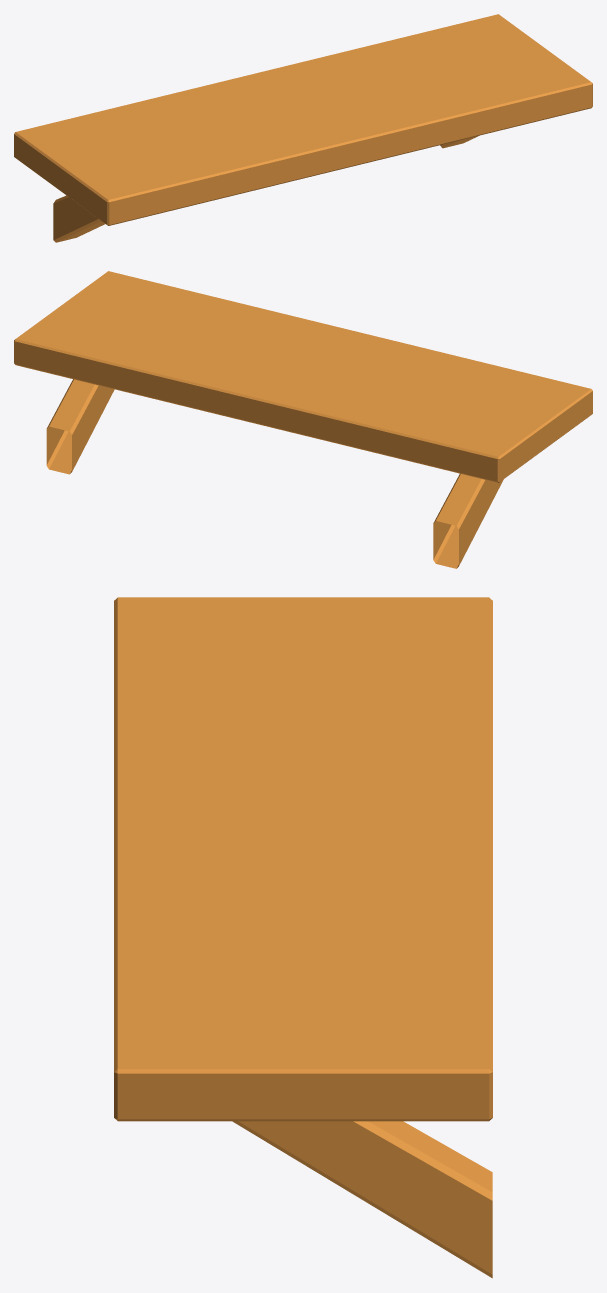
The model's file is env_shelf.fbx.
3 views of the same model, one above another, from view 1: azimuth 30°, elevation 25°; view 2: azimuth 150°, elevation 25°; view 3: azimuth 270°, elevation 25° (orthographic). The views are drawn at different scales.
Parts seen in each view (by area): view 1: env_shelf; view 2: env_shelf; view 3: env_shelf.
Boxes of the visible parts, x1,y1,x2,y2 form: env_shelf: (14,14,592,242); env_shelf: (14,271,592,568); env_shelf: (114,597,492,1278).
Size of the model in its own units: 96.59 by 23.07 by 32.58.
